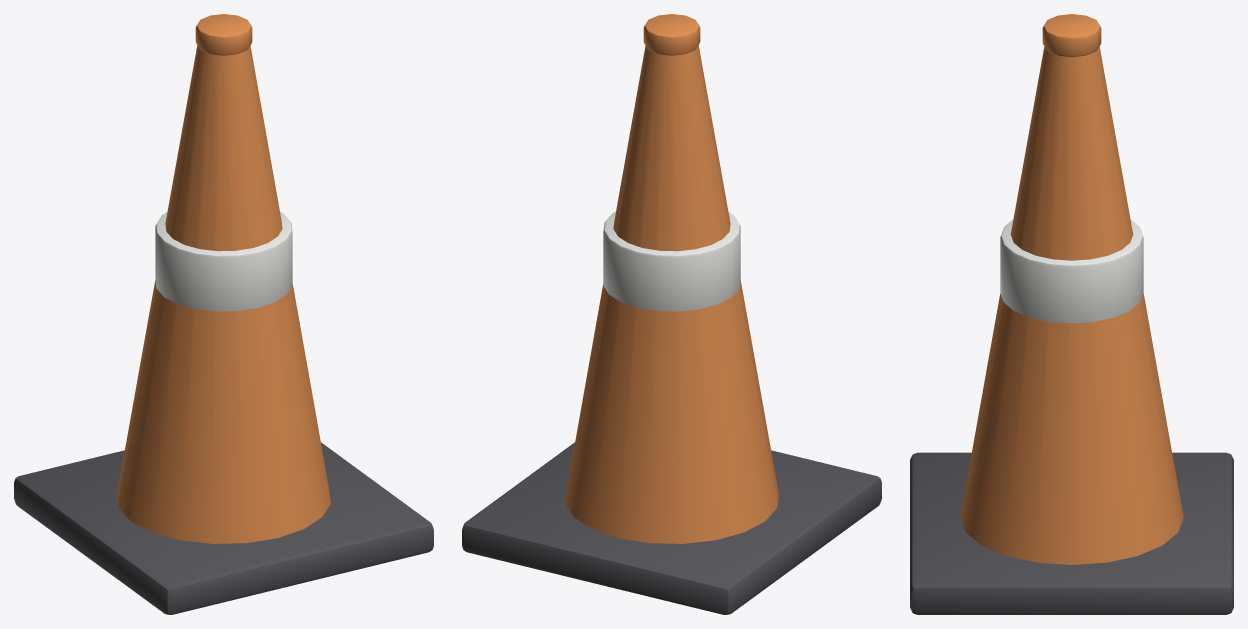
File: traffic_cone.glb
The picture shows the model from 3 angles, left to right: view 1: azimuth 30°, elevation 25°; view 2: azimuth 150°, elevation 25°; view 3: azimuth 270°, elevation 25°; orthographic projection. The views are drawn at different scales.
Visible parts, largest first — view 1: TrafficCone; view 2: TrafficCone; view 3: TrafficCone.
Part boxes in pixels (left/top/right/bottom): TrafficCone: left=14, top=14, right=433, bottom=614; TrafficCone: left=462, top=14, right=881, bottom=614; TrafficCone: left=910, top=14, right=1233, bottom=614.
Bounding box in the file's own units: 0.42 × 0.7505 × 0.42.
